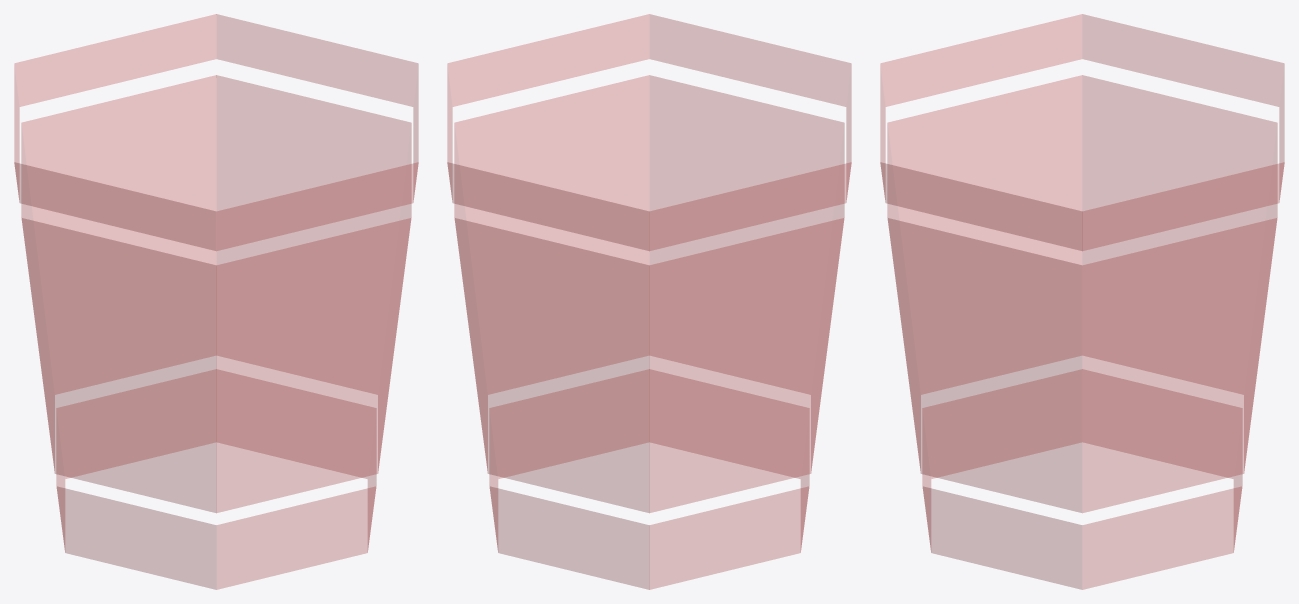
File: 路障透明.fbx
The picture shows the model from 3 angles, left to right: view 1: azimuth 30°, elevation 25°; view 2: azimuth 150°, elevation 25°; view 3: azimuth 270°, elevation 25°; orthographic projection.
Visible parts, largest first — view 1: 柱体.035; view 2: 柱体.035; view 3: 柱体.035.
Boxes of the visible parts, <box> form: 柱体.035: <box>14,14,418,589</box>; 柱体.035: <box>447,14,851,589</box>; 柱体.035: <box>880,14,1284,589</box>.
Size of the model in its own units: 180 by 172 by 156.
